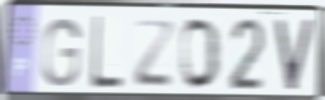2: (228, 16, 266, 93)
G: (40, 16, 82, 89)
L: (89, 14, 124, 92)
O: (179, 16, 222, 92)
V: (273, 17, 317, 94)
Z: (132, 17, 177, 90)
